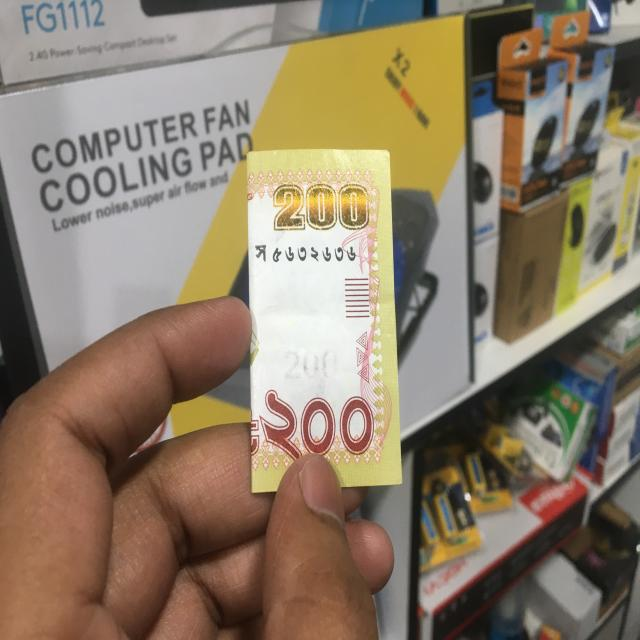Taka: (248, 150, 397, 491)
